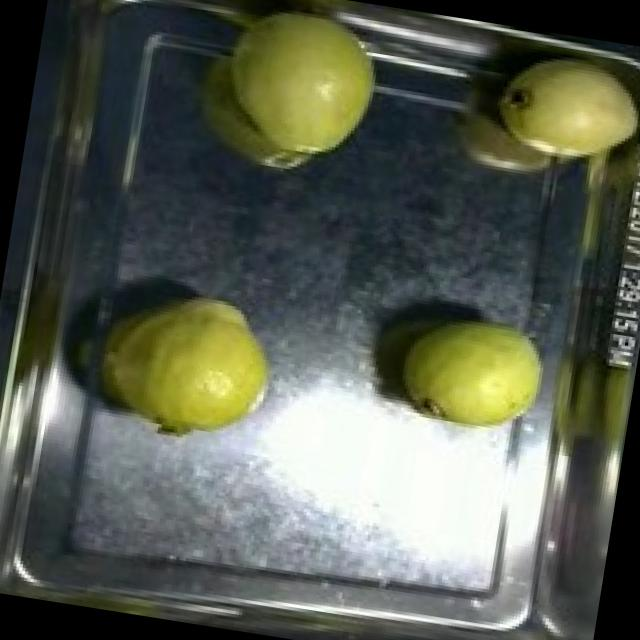Fruit: (82, 273, 290, 460), (202, 0, 394, 191), (477, 27, 640, 194), (384, 301, 565, 450)
